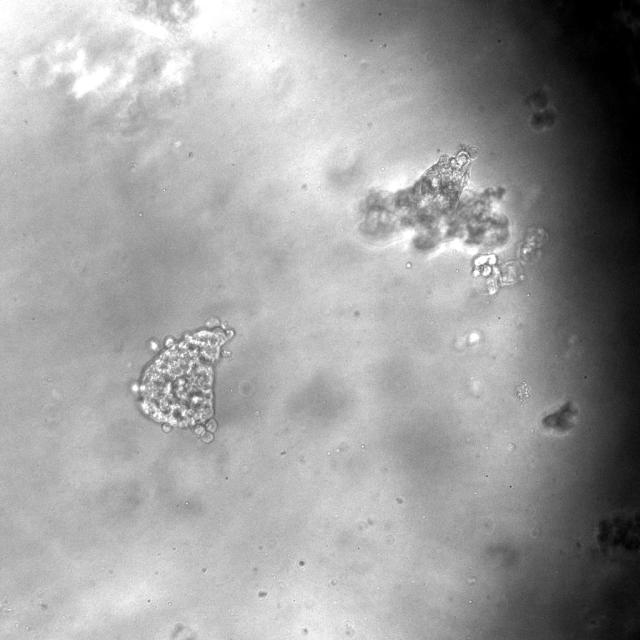organoid: (359, 146, 509, 251), (131, 318, 235, 443), (471, 227, 547, 294), (596, 512, 639, 554), (525, 88, 556, 131), (542, 401, 578, 435)
